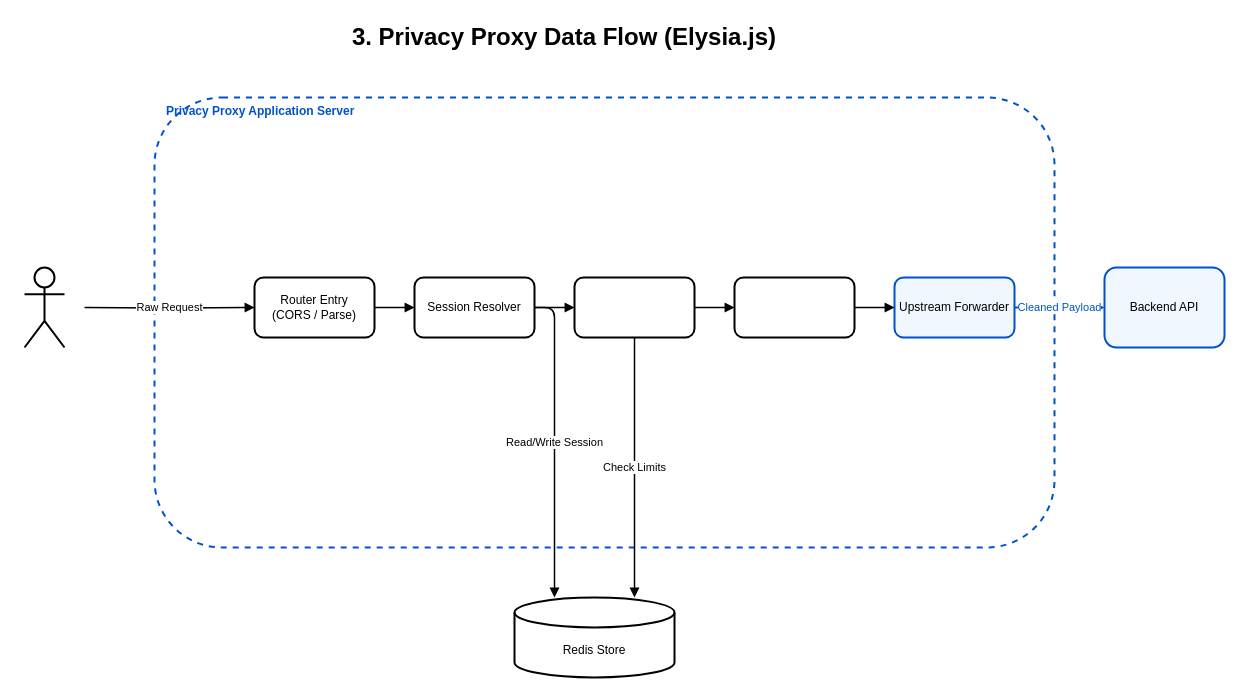
Image size: 1243x695. Some labels were removed from this diagram. The shapes that lost their labels are listed below. From the top down, each one's centre as x and y in pixels, then its label:
At point (44, 307): "Client App".
At point (634, 307): "Rate Limiter (Token Bucket)".
At point (794, 307): "PII Sanitizer (Strip Headers)".
